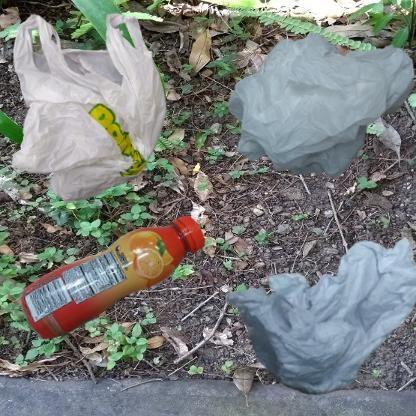bolsa: (213, 10, 416, 213), (10, 10, 169, 206)
botella: (10, 213, 236, 354)
papel: (213, 213, 416, 412)
